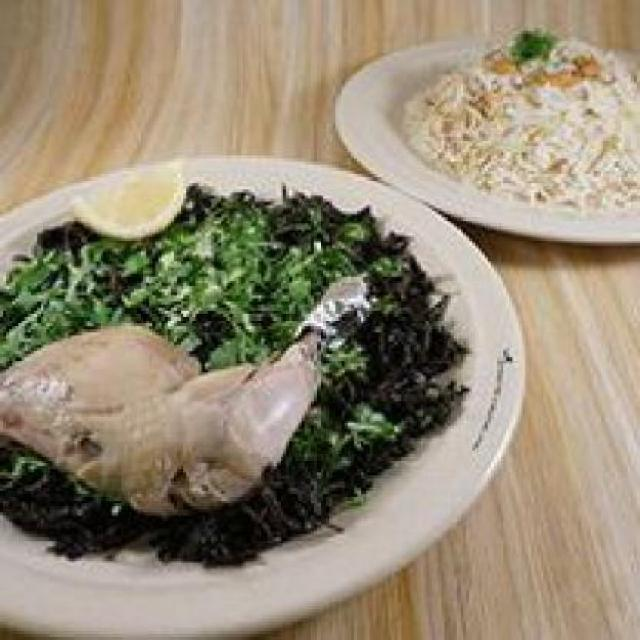chicken wings: (227, 286, 322, 460)
fried rice: (407, 32, 635, 215)
molokhia: (21, 196, 438, 541)
